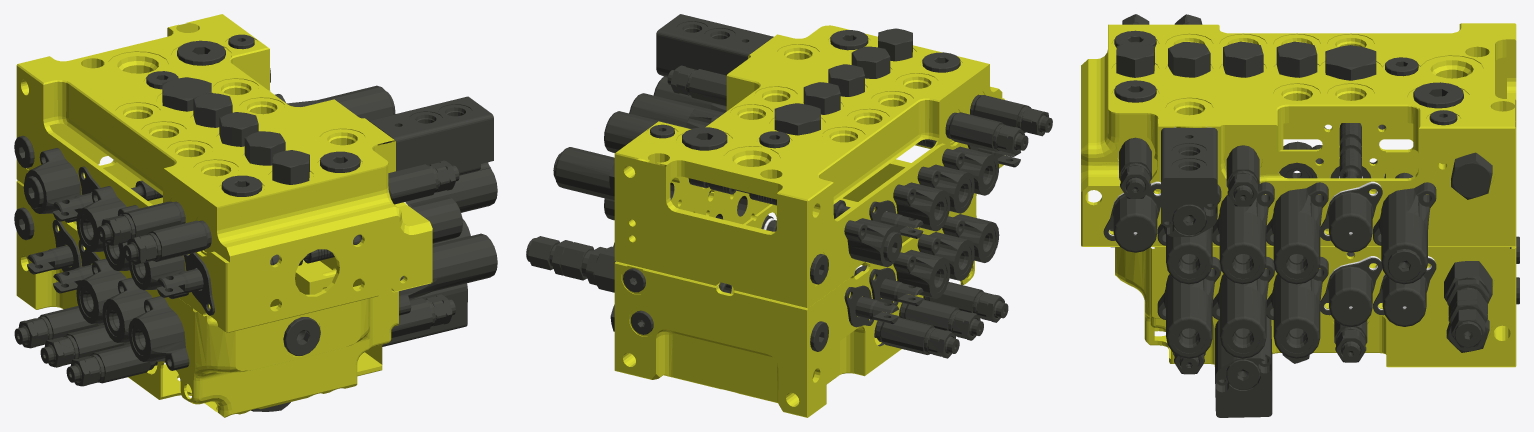
Rendered from EX70_CONTROL_VALVEPackDraco.glb.
3 views of the same model, side by side, from view 1: azimuth 30°, elevation 25°; view 2: azimuth 150°, elevation 25°; view 3: azimuth 270°, elevation 25° (orthographic). The views are drawn at different scales.
Size of the model in its own units: 0.3339 by 0.217 by 0.3105.
